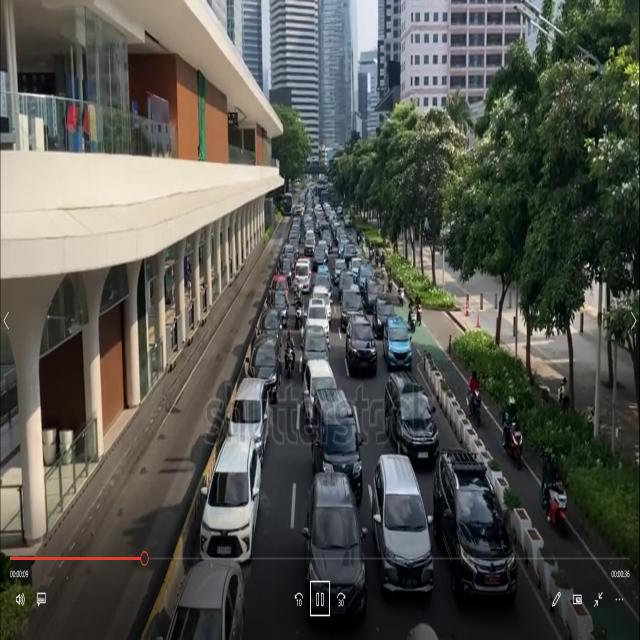Ambulance: (292, 252, 316, 295)
